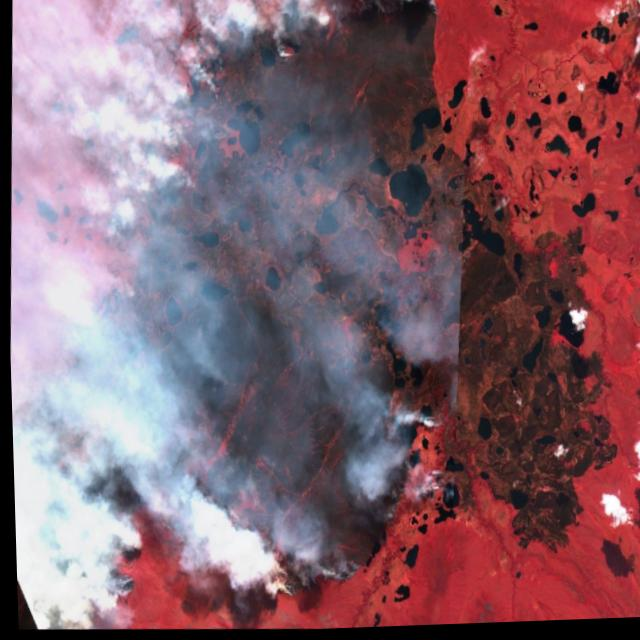fire: (8, 347, 464, 640), (98, 0, 441, 255)
